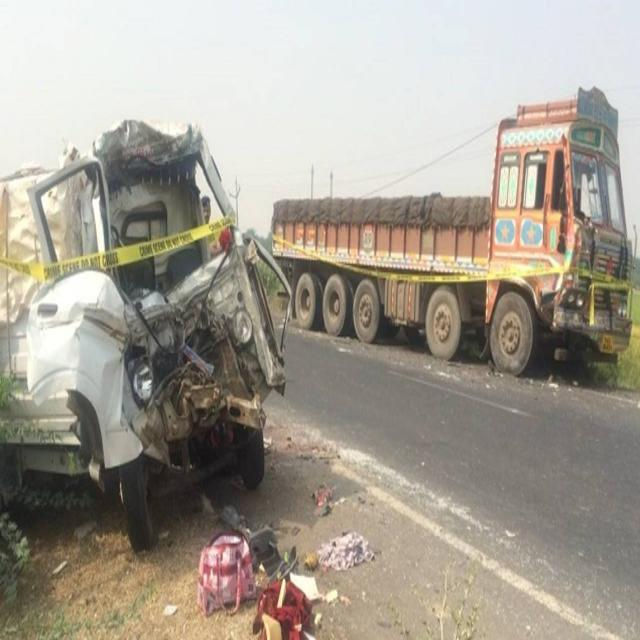accident: (0, 120, 290, 551), (271, 89, 632, 373)
